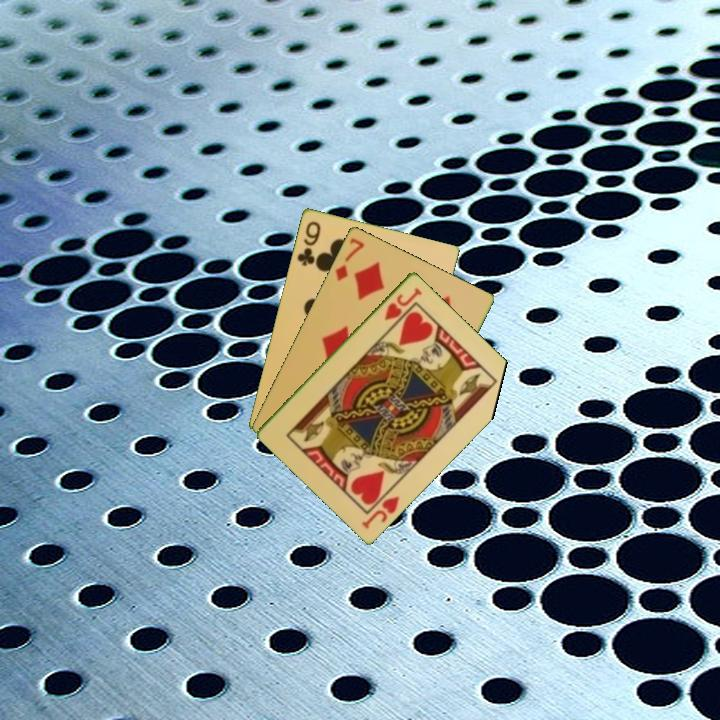7d: (331, 234, 367, 284)
9c: (293, 217, 323, 269)
Jh: (380, 283, 425, 323), (358, 492, 403, 531)
